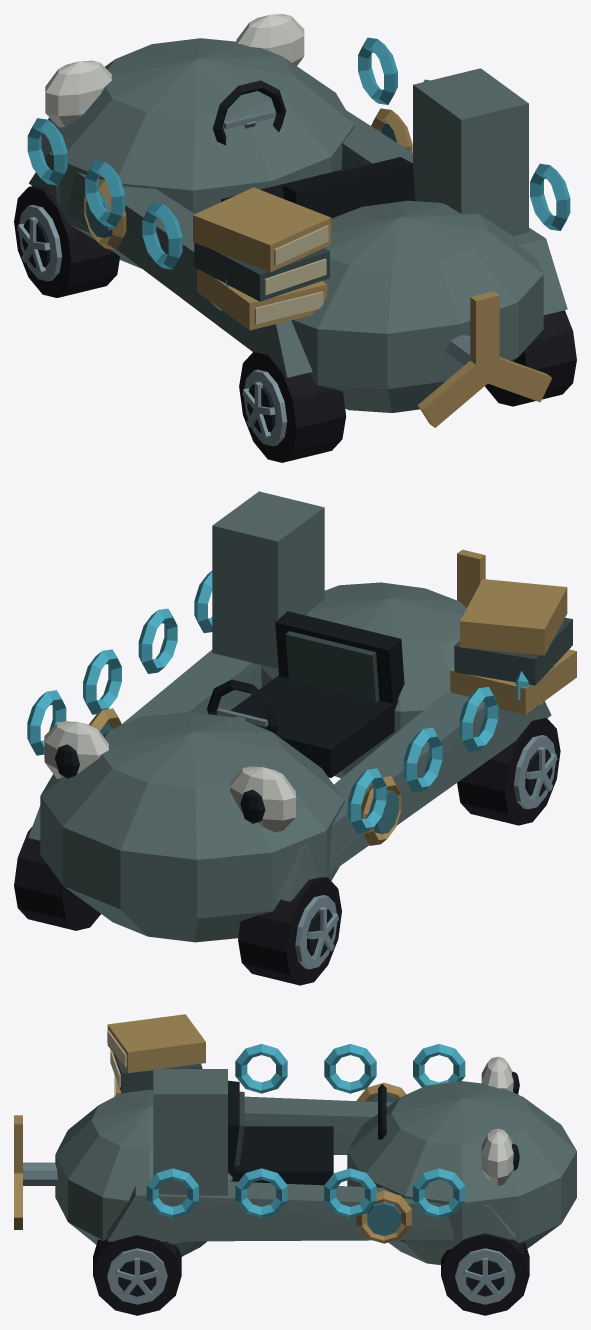
Rendered from kart.glb.
3 renders of one model, top to bottom at view 1: azimuth 30°, elevation 25°; view 2: azimuth 150°, elevation 25°; view 3: azimuth 270°, elevation 25°, orthographic. The views are drawn at different scales.
Visible parts, largest first — view 1: identity-submarine-submarine-rounded-bow-and-stern-propeller, identity-submarine-motif-books, identity-submarine-motif-water, wheel-rear-left, wheel-front-left, identity-submarine-driver-cockpit, identity-submarine-motif-eyes, wheel-rear-right; view 2: identity-submarine-submarine-rounded-bow-and-stern-propeller, identity-submarine-driver-cockpit, identity-submarine-motif-books, identity-submarine-motif-water, wheel-front-left, wheel-rear-left, identity-submarine-motif-eyes, wheel-front-right; view 3: identity-submarine-submarine-rounded-bow-and-stern-propeller, identity-submarine-motif-water, identity-submarine-driver-cockpit, wheel-rear-right, wheel-front-right, identity-submarine-motif-books, identity-submarine-motif-eyes.
Boxes of the visible parts, <box> form: identity-submarine-submarine-rounded-bow-and-stern-propeller: <box>29,38,567,427</box>; identity-submarine-motif-books: <box>193,187,331,330</box>; identity-submarine-motif-water: <box>27,37,570,310</box>; wheel-rear-left: <box>239,351,346,462</box>; wheel-front-left: <box>14,185,119,297</box>; identity-submarine-driver-cockpit: <box>212,80,415,218</box>; identity-submarine-motif-eyes: <box>45,14,304,127</box>; wheel-rear-right: <box>485,310,576,406</box>; identity-submarine-submarine-rounded-bow-and-stern-propeller: <box>28,491,551,942</box>; identity-submarine-driver-cockpit: <box>207,611,404,777</box>; identity-submarine-motif-books: <box>450,579,576,714</box>; identity-submarine-motif-water: <box>27,571,553,833</box>; wheel-front-left: <box>238,877,341,985</box>; wheel-rear-left: <box>457,717,560,825</box>; identity-submarine-motif-eyes: <box>44,721,295,832</box>; wheel-front-right: <box>14,826,100,930</box>; identity-submarine-submarine-rounded-bow-and-stern-propeller: <box>14,1069,576,1264</box>; identity-submarine-motif-water: <box>146,1044,465,1217</box>; identity-submarine-driver-cockpit: <box>228,1080,387,1185</box>; wheel-rear-right: <box>93,1235,181,1315</box>; wheel-front-right: <box>441,1233,529,1315</box>; identity-submarine-motif-books: <box>107,1014,205,1096</box>; identity-submarine-motif-eyes: <box>481,1056,519,1185</box>.
Bounding box in the file's own units: 1.79 × 1.36 × 3.17.
